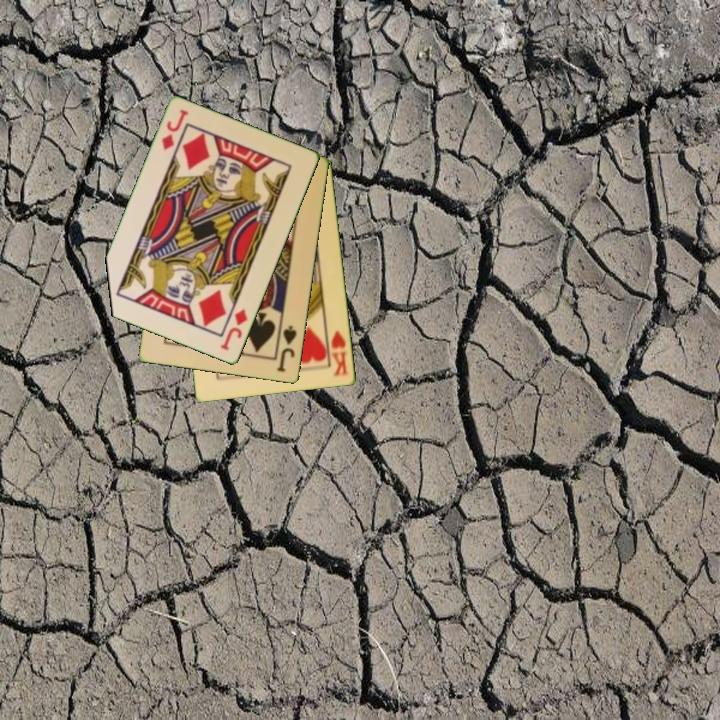Jd: (217, 306, 251, 354), (158, 106, 191, 154)
Js: (274, 322, 300, 375)
Kh: (324, 325, 352, 378)
